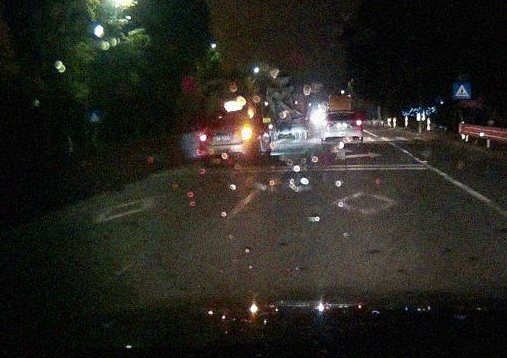L_light: (199, 132, 212, 142), (323, 120, 334, 126)
R_light: (238, 127, 252, 137), (350, 119, 362, 127)
T_light: (226, 116, 237, 119), (340, 112, 346, 114)
night-no: (321, 110, 363, 141)
night-right: (198, 113, 256, 166)
